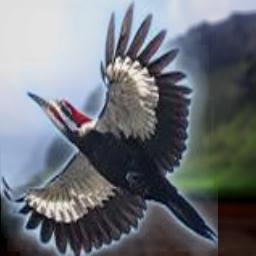Woodpecker: (1, 0, 218, 256)
